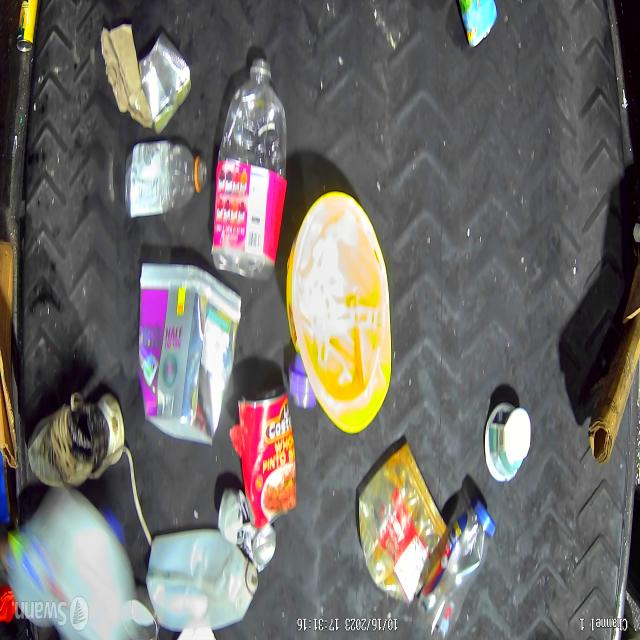can: (235, 380, 301, 530)
milk_jug: (144, 522, 258, 640)
plastic_bottle: (212, 46, 288, 286), (119, 134, 211, 226)
